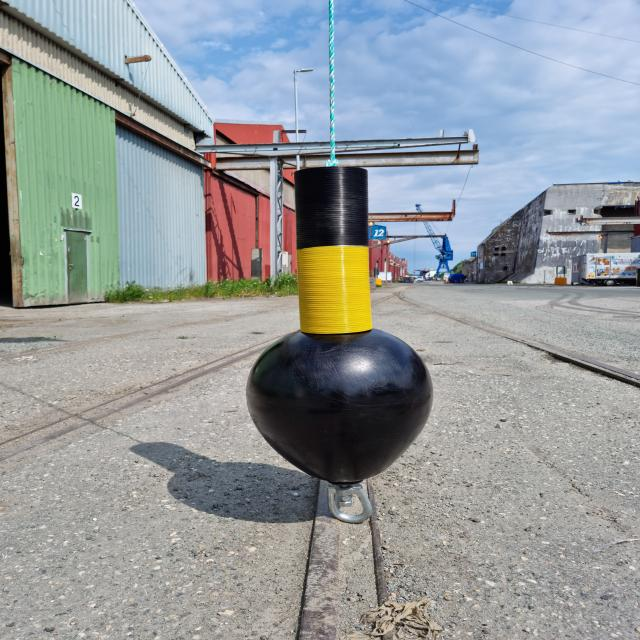east: (244, 166, 433, 484)
